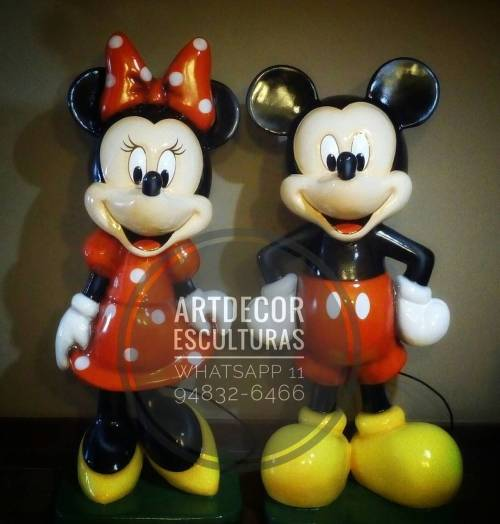Mickey: (240, 56, 443, 242)
